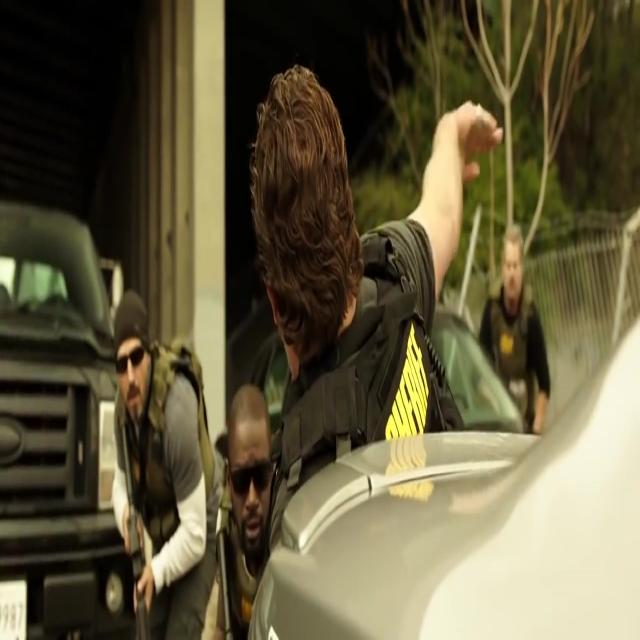Weapon: (109, 410, 159, 632)
